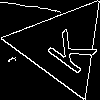K: (37, 21, 98, 76)
